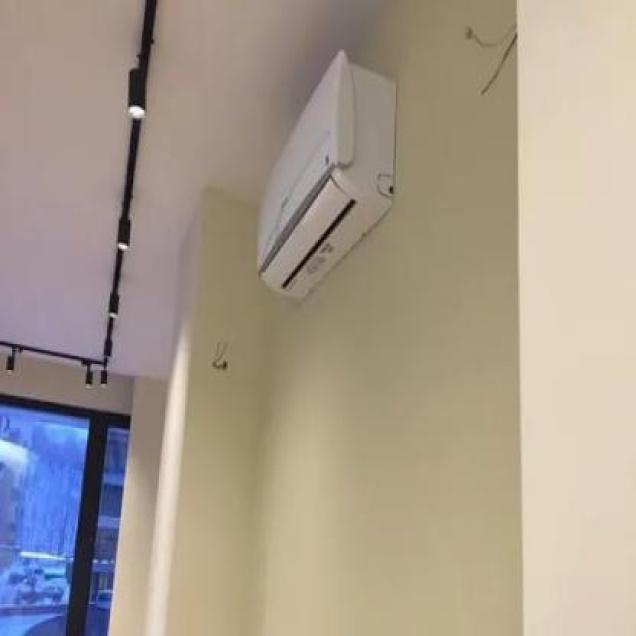AC: (253, 46, 397, 302)
